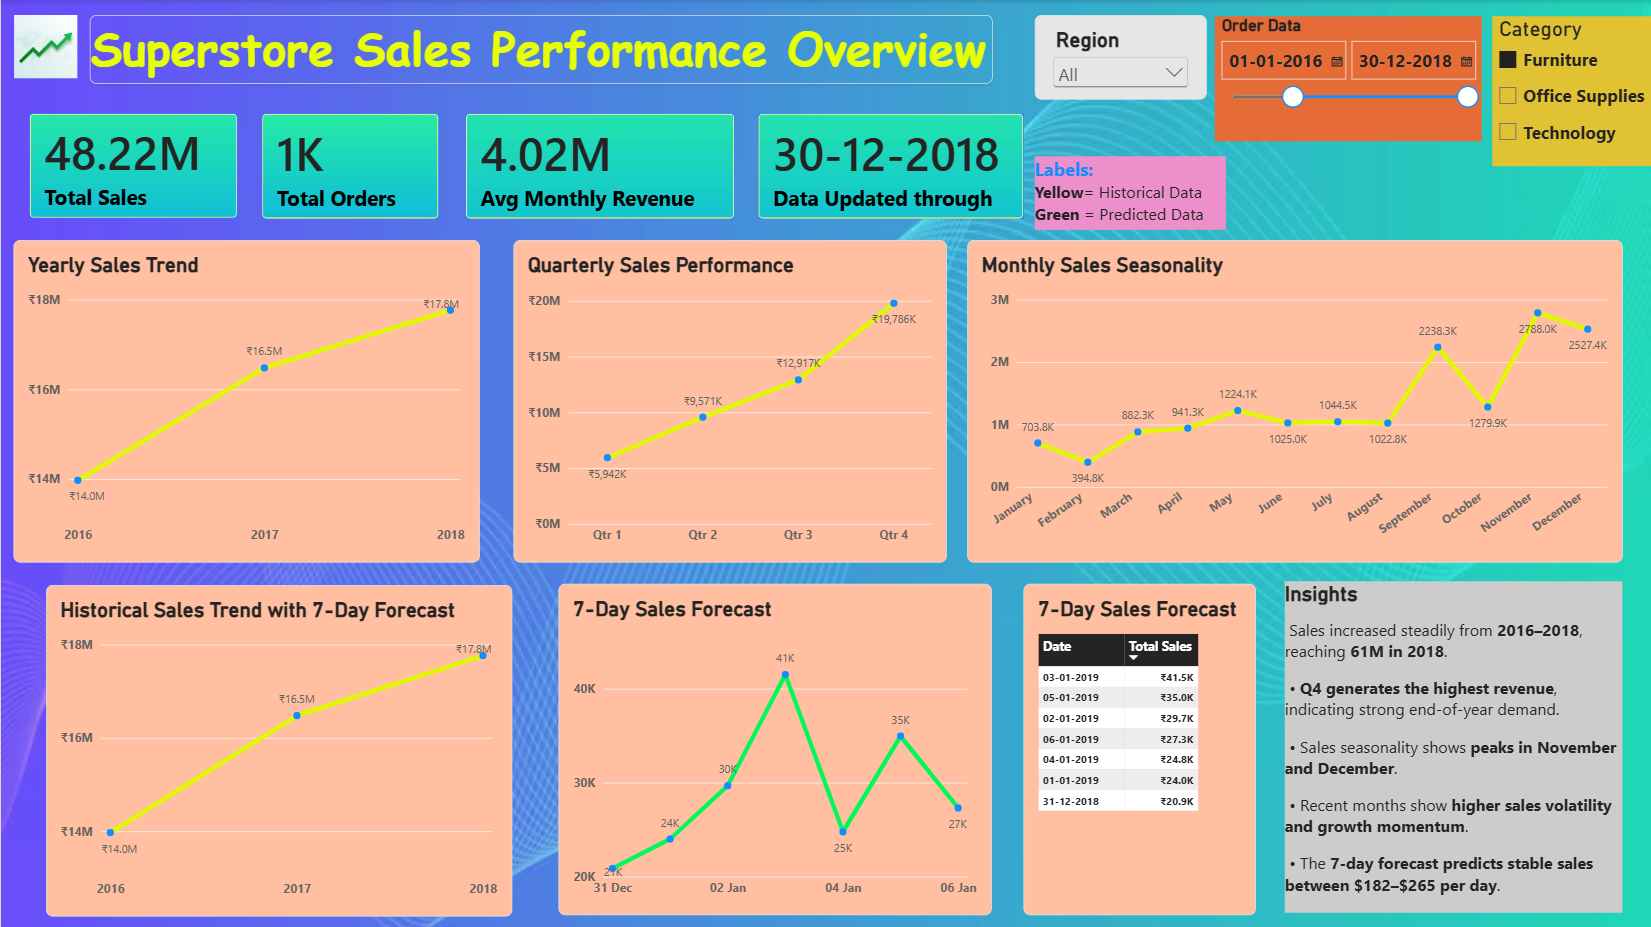

What the dashboard file says about the page in this screenshot:
{"tool":"powerbi","page":{"name":"Dashboard 2 - Sales & Trends Forecasting  ","canvas":[1920,1080],"ordinal":1},"visuals":[{"type":"textbox","box":[102.9,17.4,1050,80.2],"z":0},{"type":"image","box":[0,17.4,103.8,73.8],"z":1000},{"type":"slicer","fields":{"Values":["superstore_clean_data.Order Date"]},"box":[1412.2,19.3,310.5,144.8],"z":2000},{"type":"slicer","fields":{"Values":["superstore_clean_data.Category"]},"box":[1734.6,19.3,184.9,174.4],"z":3000},{"type":"slicer","fields":{"Values":["superstore_clean_data.Region"]},"box":[1202,17.5,200,98.1],"z":4000},{"type":"cardVisual","fields":{"Data":["superstore_clean_data.Total Sales"]},"box":[32.7,132.5,241.6,121.6],"z":5000},{"type":"cardVisual","fields":{"Data":["superstore_clean_data.Total Orders"]},"box":[303.5,132.6,205.8,122.1],"z":6000},{"type":"cardVisual","fields":{"Data":["superstore_clean_data.Avg Monthly Sales"]},"box":[540.7,132.6,312.2,122.1],"z":7000},{"type":"cardVisual","fields":{"Data":["superstore_clean_data.Last Data Date"]},"box":[880.8,132.6,308.7,122.1],"z":8000},{"type":"lineChart","title":"Yearly Sales Trend","fields":{"Category":["superstore_clean_data.Order Date.Variation.Date Hierarchy.Year","superstore_clean_data.Order Date.Variation.Date Hierarchy.Quarter","superstore_clean_data.Order Date.Variation.Date Hierarchy.Month","superstore_clean_data.Order Date.Variation.Date Hierarchy.Day"],"Y":["Sum(superstore_clean_data.Sales)"]},"box":[14,279.1,542.4,375],"z":9000},{"type":"lineChart","title":"Quarterly Sales Performance","fields":{"Category":["superstore_clean_data.Order Date.Variation.Date Hierarchy.Quarter"],"Y":["Sum(superstore_clean_data.Sales)"]},"box":[595.9,279.4,504.1,375],"z":10000},{"type":"lineChart","title":"Monthly Sales Seasonality","fields":{"Category":["superstore_clean_data.Order Date.Variation.Date Hierarchy.Month"],"Y":["superstore_clean_data.Average Monthly Sales"]},"box":[1123.3,279.1,762.2,375],"z":11000},{"type":"lineChart","title":"Historical Sales Trend with 7-Day Forecast","fields":{"Category":["superstore_clean_data.Order Date.Variation.Date Hierarchy.Year","superstore_clean_data.Order Date.Variation.Date Hierarchy.Month"],"Y":["Sum(superstore_clean_data.Sales)"]},"box":[52.3,680.2,542.4,385.5],"z":12000},{"type":"lineChart","title":"7-Day Sales Forecast","fields":{"Category":["Forecast_Dates.Date"],"Y":["Forecast_Dates.Forecast Sales Weekday Recent"]},"box":[648.8,678.5,504.1,385.5],"z":13000},{"type":"tableEx","title":"7-Day Sales Forecast","fields":{"Values":["Forecast_Dates.Date","Forecast_Dates.Forecast Sales"]},"box":[1189.5,678.5,270.3,385.5],"z":14000},{"type":"textbox","title":"Insights","box":[1493,676.7,392.4,385.5],"z":14001},{"type":"textbox","box":[1202.7,181.7,222.5,85.9],"z":14004}]}

Visuals, with their boxes in screenshot pixels (x1, y1, x2, y2), scaled from the page's 1920x1080 canvas onto the 1651x927 screenshot:
textbox: crop(88, 15, 991, 84)
image: crop(0, 15, 89, 78)
slicer - superstore_clean_data.Order Date: crop(1214, 17, 1481, 141)
slicer - superstore_clean_data.Category: crop(1492, 17, 1650, 166)
slicer - superstore_clean_data.Region: crop(1034, 15, 1206, 99)
cardVisual - superstore_clean_data.Total Sales: crop(28, 114, 236, 218)
cardVisual - superstore_clean_data.Total Orders: crop(261, 114, 438, 219)
cardVisual - superstore_clean_data.Avg Monthly Sales: crop(465, 114, 733, 219)
cardVisual - superstore_clean_data.Last Data Date: crop(757, 114, 1023, 219)
"Yearly Sales Trend" lineChart: crop(12, 240, 478, 561)
"Quarterly Sales Performance" lineChart: crop(512, 240, 946, 562)
"Monthly Sales Seasonality" lineChart: crop(966, 240, 1621, 561)
"Historical Sales Trend with 7-Day Forecast" lineChart: crop(45, 584, 511, 915)
"7-Day Sales Forecast" lineChart: crop(558, 582, 991, 913)
"7-Day Sales Forecast" tableEx: crop(1023, 582, 1255, 913)
"Insights" textbox: crop(1284, 581, 1621, 912)
textbox: crop(1034, 156, 1226, 230)
